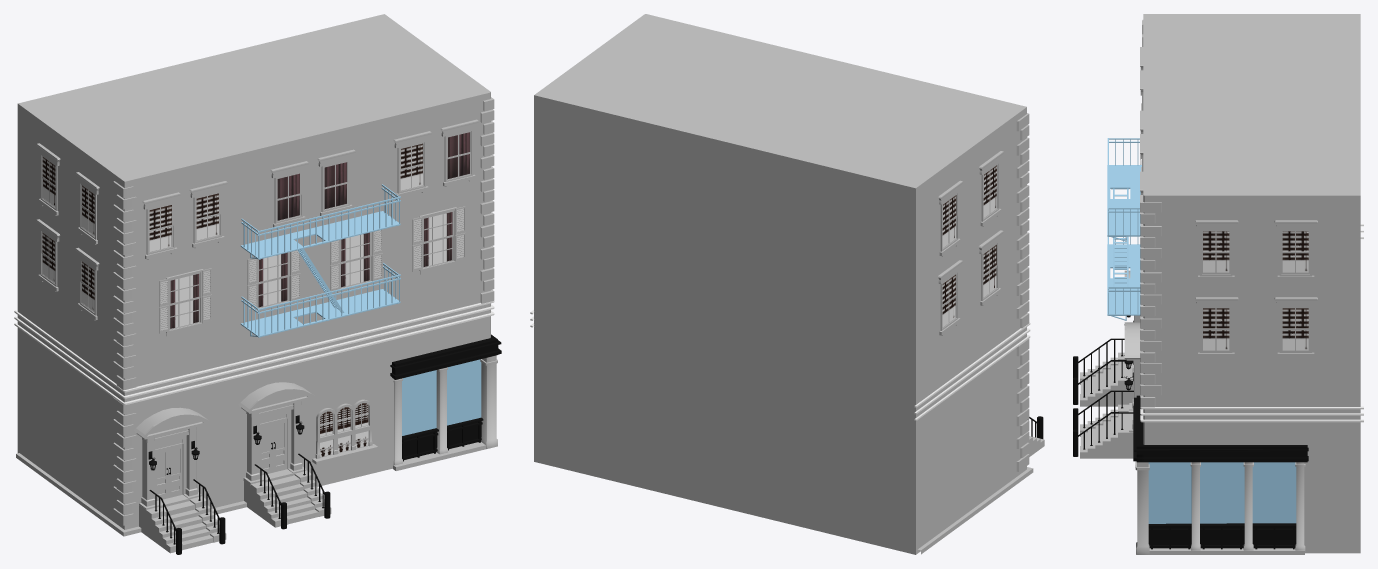
File: Building_02.FBX
3 renders of one model, left to right at view 1: azimuth 30°, elevation 25°; view 2: azimuth 150°, elevation 25°; view 3: azimuth 270°, elevation 25°, orthographic. The views are drawn at different scales.
Parts seen in each view (by area): view 1: building2, iron2, window2, window1, Object156, window3, Object163, iron; view 2: building2, Object156, window1, window2; view 3: building2, iron2, window3, Object163, window2, Object156, iron, window1.
Part boxes in pixels (left/top/right/bottom): building2: left=16, top=14, right=497, bottom=553; iron2: left=240, top=184, right=501, bottom=461; window2: left=42, top=132, right=469, bottom=328; window1: left=42, top=157, right=368, bottom=456; Object156: left=14, top=301, right=494, bottom=405; window3: left=402, top=359, right=481, bottom=435; Object163: left=480, top=97, right=494, bottom=303; iron: left=148, top=415, right=330, bottom=554; building2: left=534, top=14, right=1044, bottom=554; Object156: left=530, top=310, right=1030, bottom=420; window1: left=942, top=195, right=996, bottom=296; window2: left=942, top=165, right=996, bottom=326; building2: left=1080, top=14, right=1360, bottom=554; iron2: left=1107, top=138, right=1308, bottom=549; window3: left=1148, top=462, right=1296, bottom=523; Object163: left=1140, top=198, right=1161, bottom=407; window2: left=1203, top=231, right=1308, bottom=350; Object156: left=1140, top=224, right=1363, bottom=422; iron: left=1073, top=315, right=1133, bottom=456; window1: left=1203, top=231, right=1229, bottom=272.
Size of the model in its own units: 1697 by 1523 by 1120.
